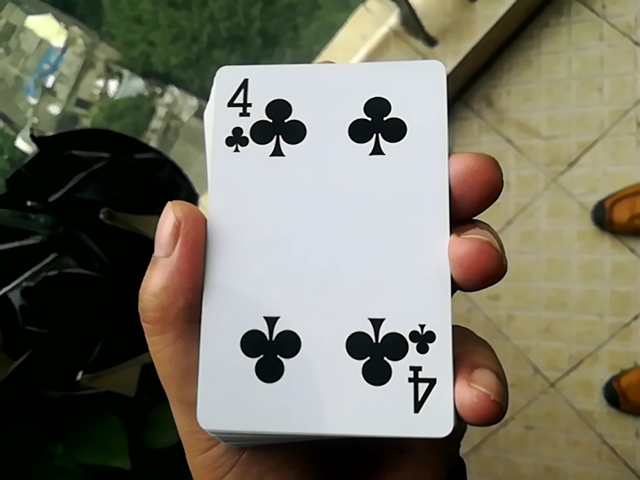mh 4: (184, 54, 455, 436)
